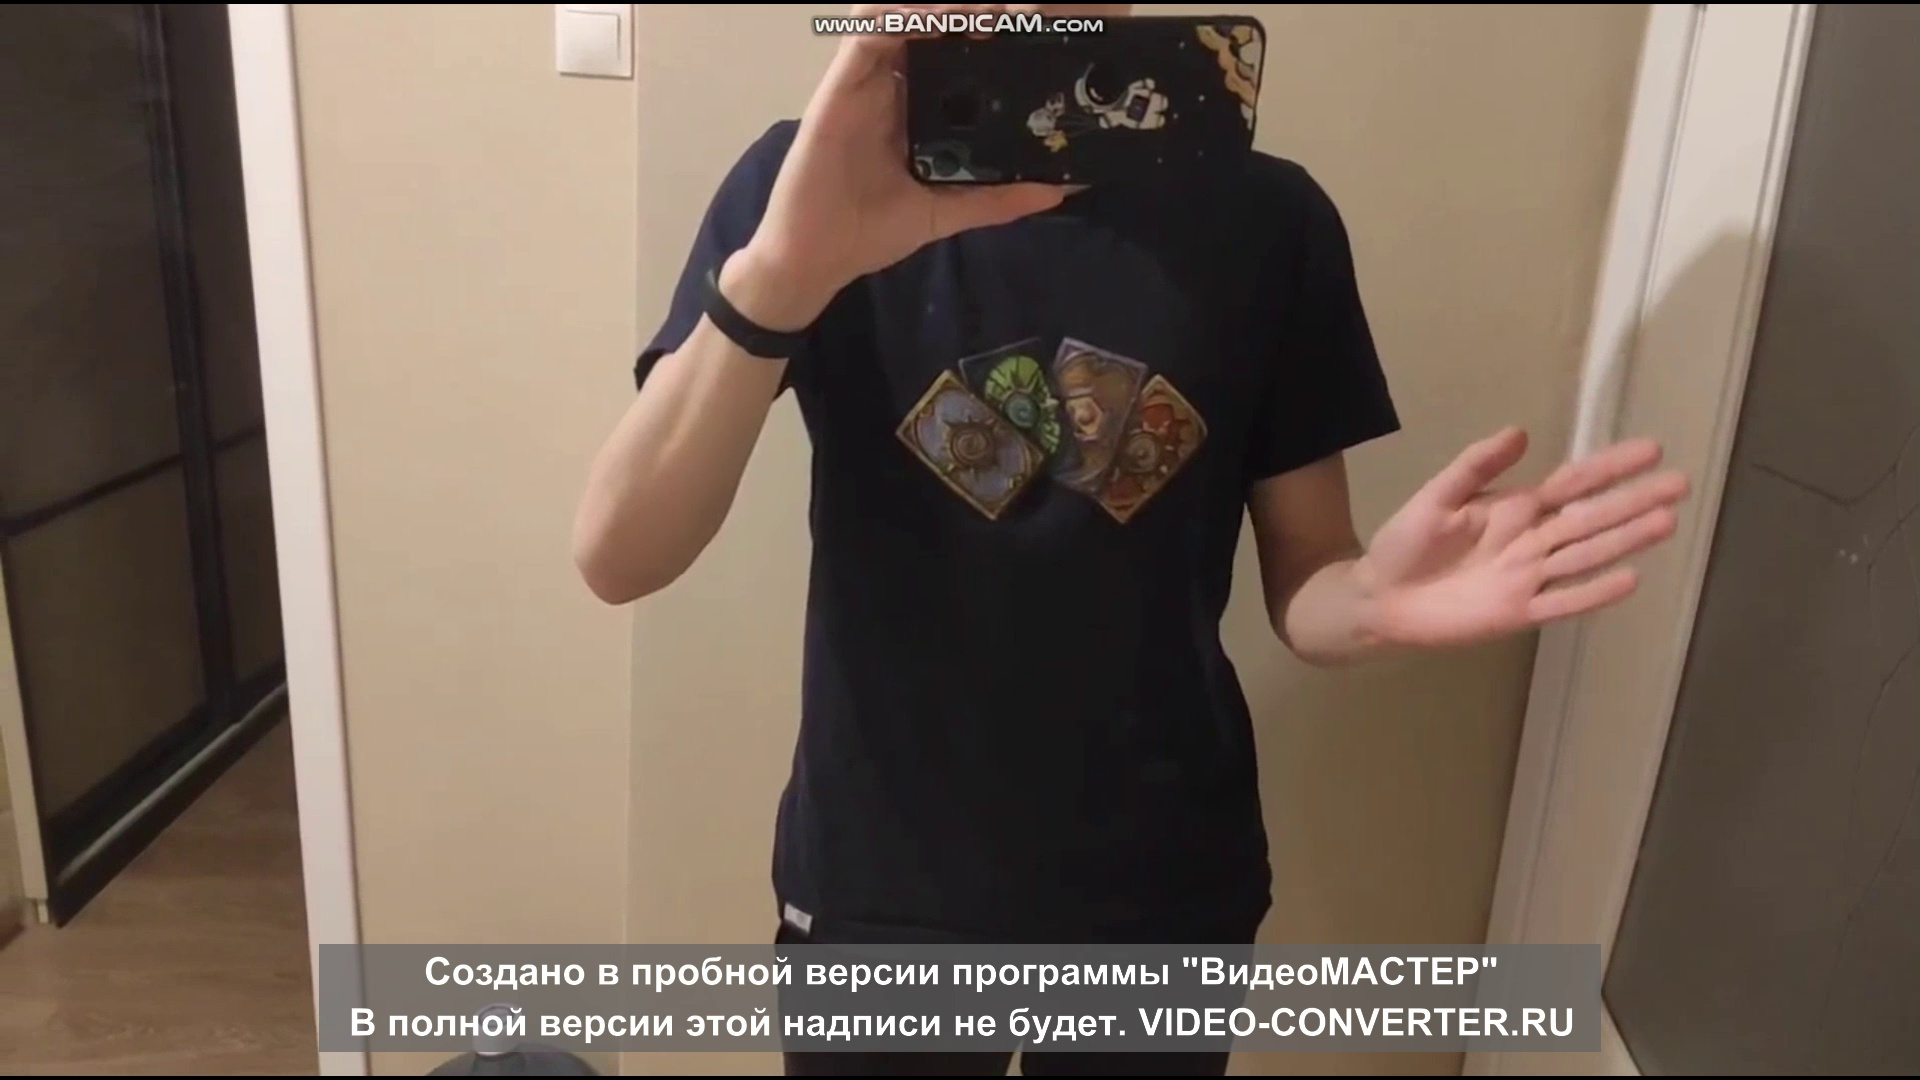Ладонь: (1362, 423, 1695, 644)
